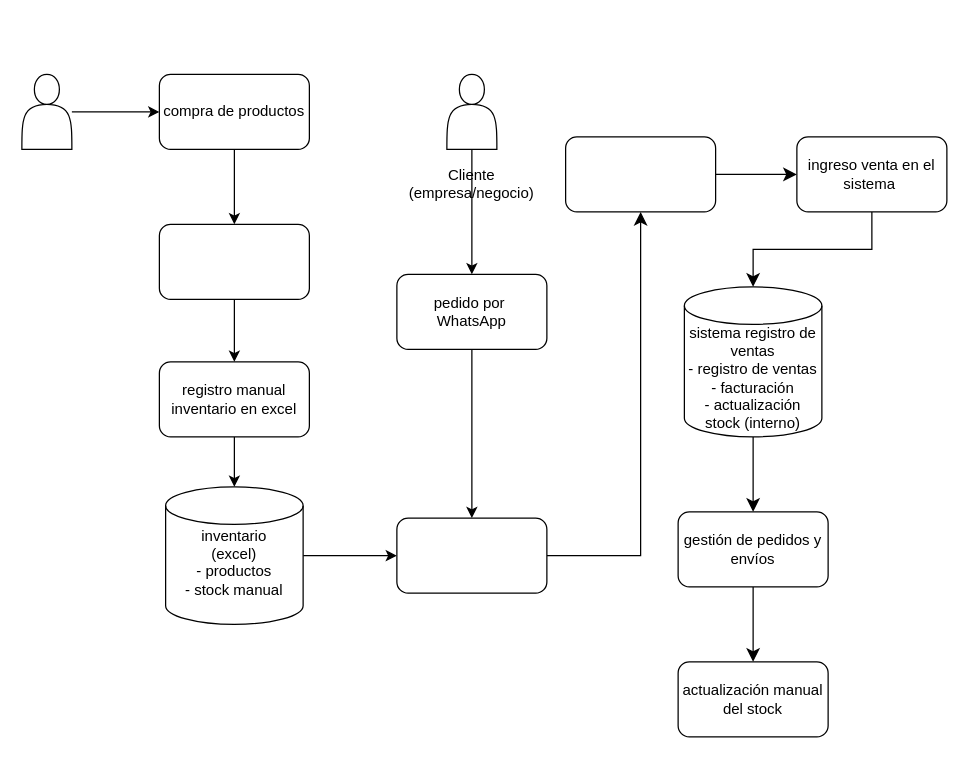
The diagram is 969 pixels wide and 759 high, and some of its shapes have lost their labels. The shapes that lost their labels are listed below. From the top down, each one's centre as x and y in pixels, then its label:
At (46,111): "pinval".
At (640,174): "confirmación de venta".
At (233,261): "recepción de productos".
At (471,555): "validación manual de stock".
